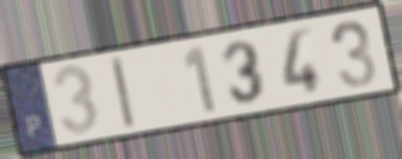1: (183, 44, 217, 116)
3: (51, 61, 104, 139), (330, 19, 377, 88), (219, 38, 266, 107)
4: (280, 26, 325, 97)
I: (108, 53, 139, 132)
